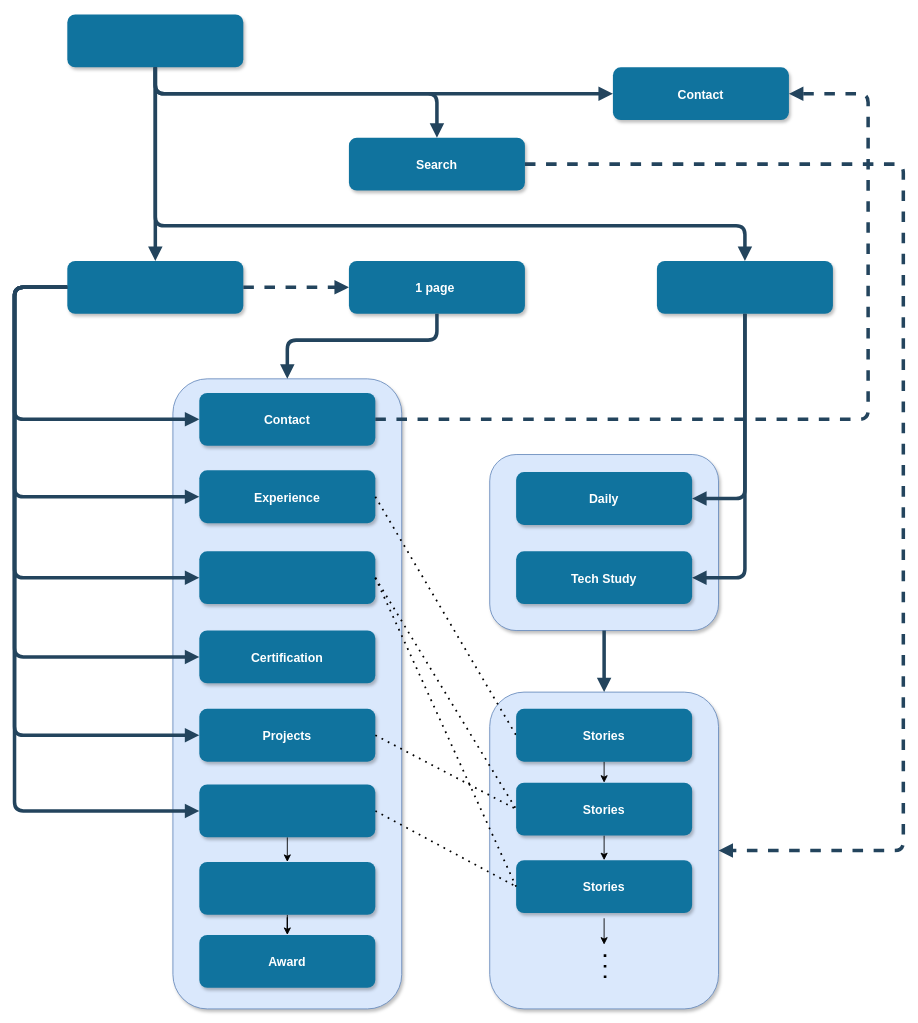
This 918x1023 diagram has some shape labels left out. The shapes that lost their labels are listed below. From the top down, each one's centre as x and y in pixels, then its label:
At point 155,42: "Home".
At point 155,288: "Resume".
At point 745,288: "Blog".
At point 287,578: "Skills".
At point 287,812: "Education".
At point 287,889: "Activity".
